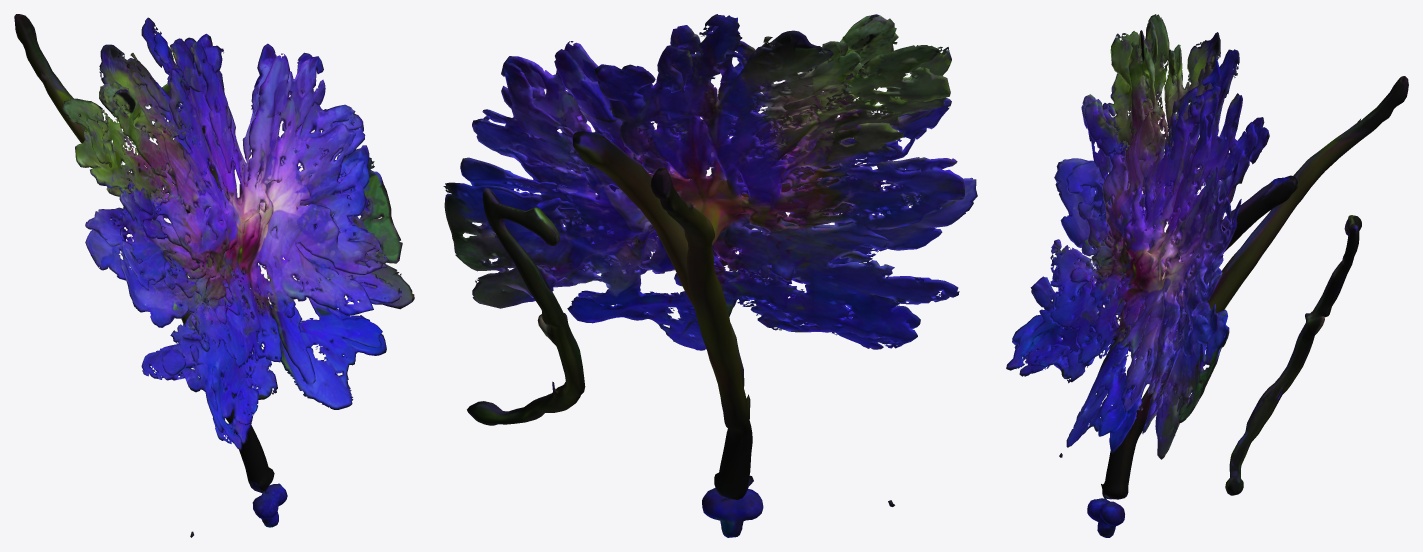
File: shrub0077.gltf
3 views of the same model, side by side, from view 1: azimuth 30°, elevation 25°; view 2: azimuth 150°, elevation 25°; view 3: azimuth 270°, elevation 25° (orthographic). The views are drawn at different scales.
Parts seen in each view (by area): view 1: Mesh_0.045; view 2: Mesh_0.045; view 3: Mesh_0.045.
Boxes of the visible parts, <box> form: Mesh_0.045: <box>14,14,414,537</box>; Mesh_0.045: <box>443,14,977,537</box>; Mesh_0.045: <box>1006,14,1408,537</box>.
Size of the model in its own units: 1.61 by 2.02 by 1.6.
Materials: 1 (1 with a texture image).
